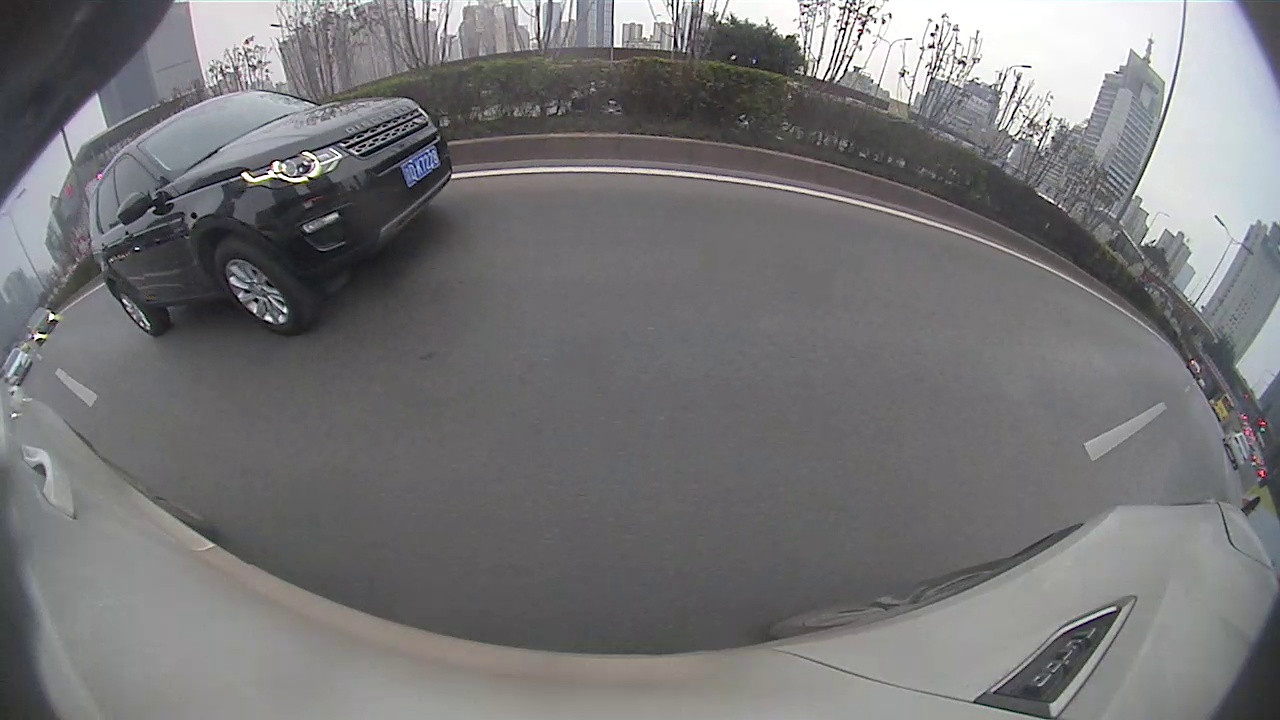car: (86, 91, 454, 334), (25, 307, 58, 342), (1223, 430, 1252, 468)
front: (212, 232, 310, 335)
rear: (114, 284, 157, 335)
